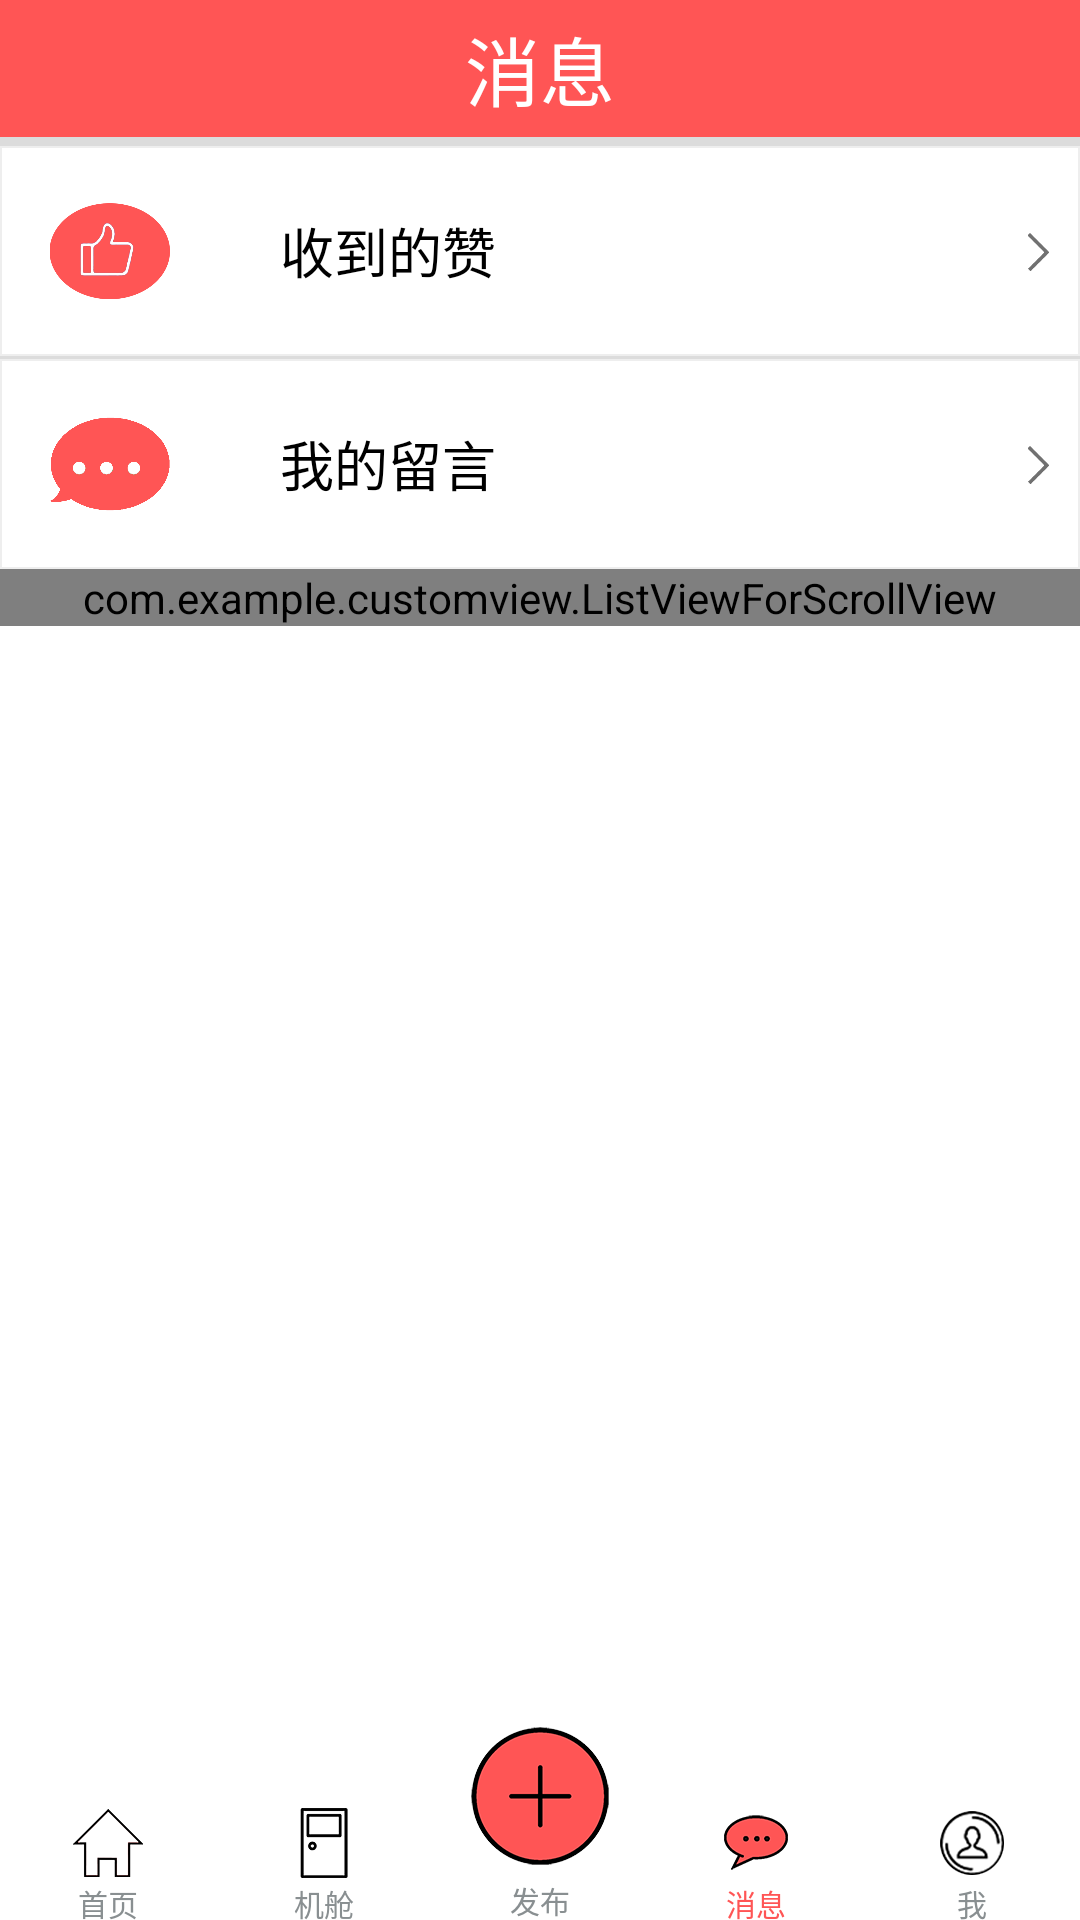

Point at icon controls on the screen. Image size 1080x1920, points as [x,y].
add: [540,1796]
door: [324,1843]
jiantou: [1038,252], [1038,465]
message zan: [110,251]
person: [972,1843]
